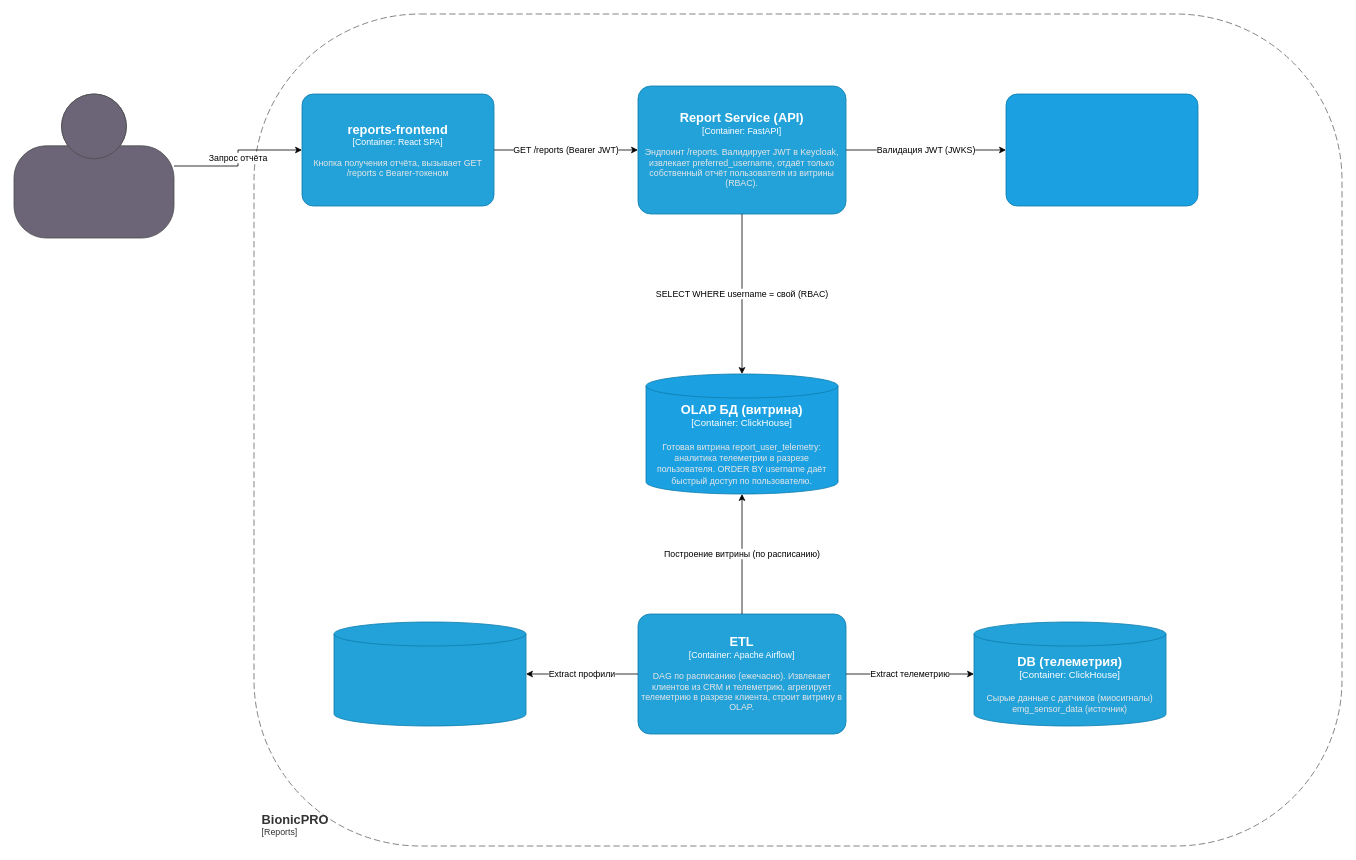
Image size: 1356x860. Some labels were removed from this diagram. The shapes that lost their labels are listed below. From the top down, each one's centre as x and y in pixels, then its label:
At point 93,165: "Пилот протеза [Person] Скачивает отчёт о работе своего протеза".
At point 1101,149: "Keycloak [Container: OIDC] Аутентификация, выдача JWT, JWKS для проверки токена".
At point 429,673: "CRM DB [Container: PostgreSQL] Профили клиентов (источник)".
